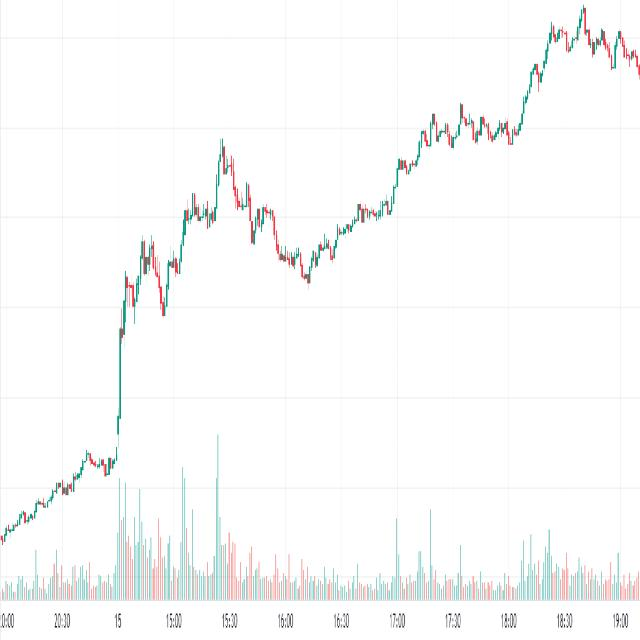Head-Shoulders: (177, 118, 283, 276)
